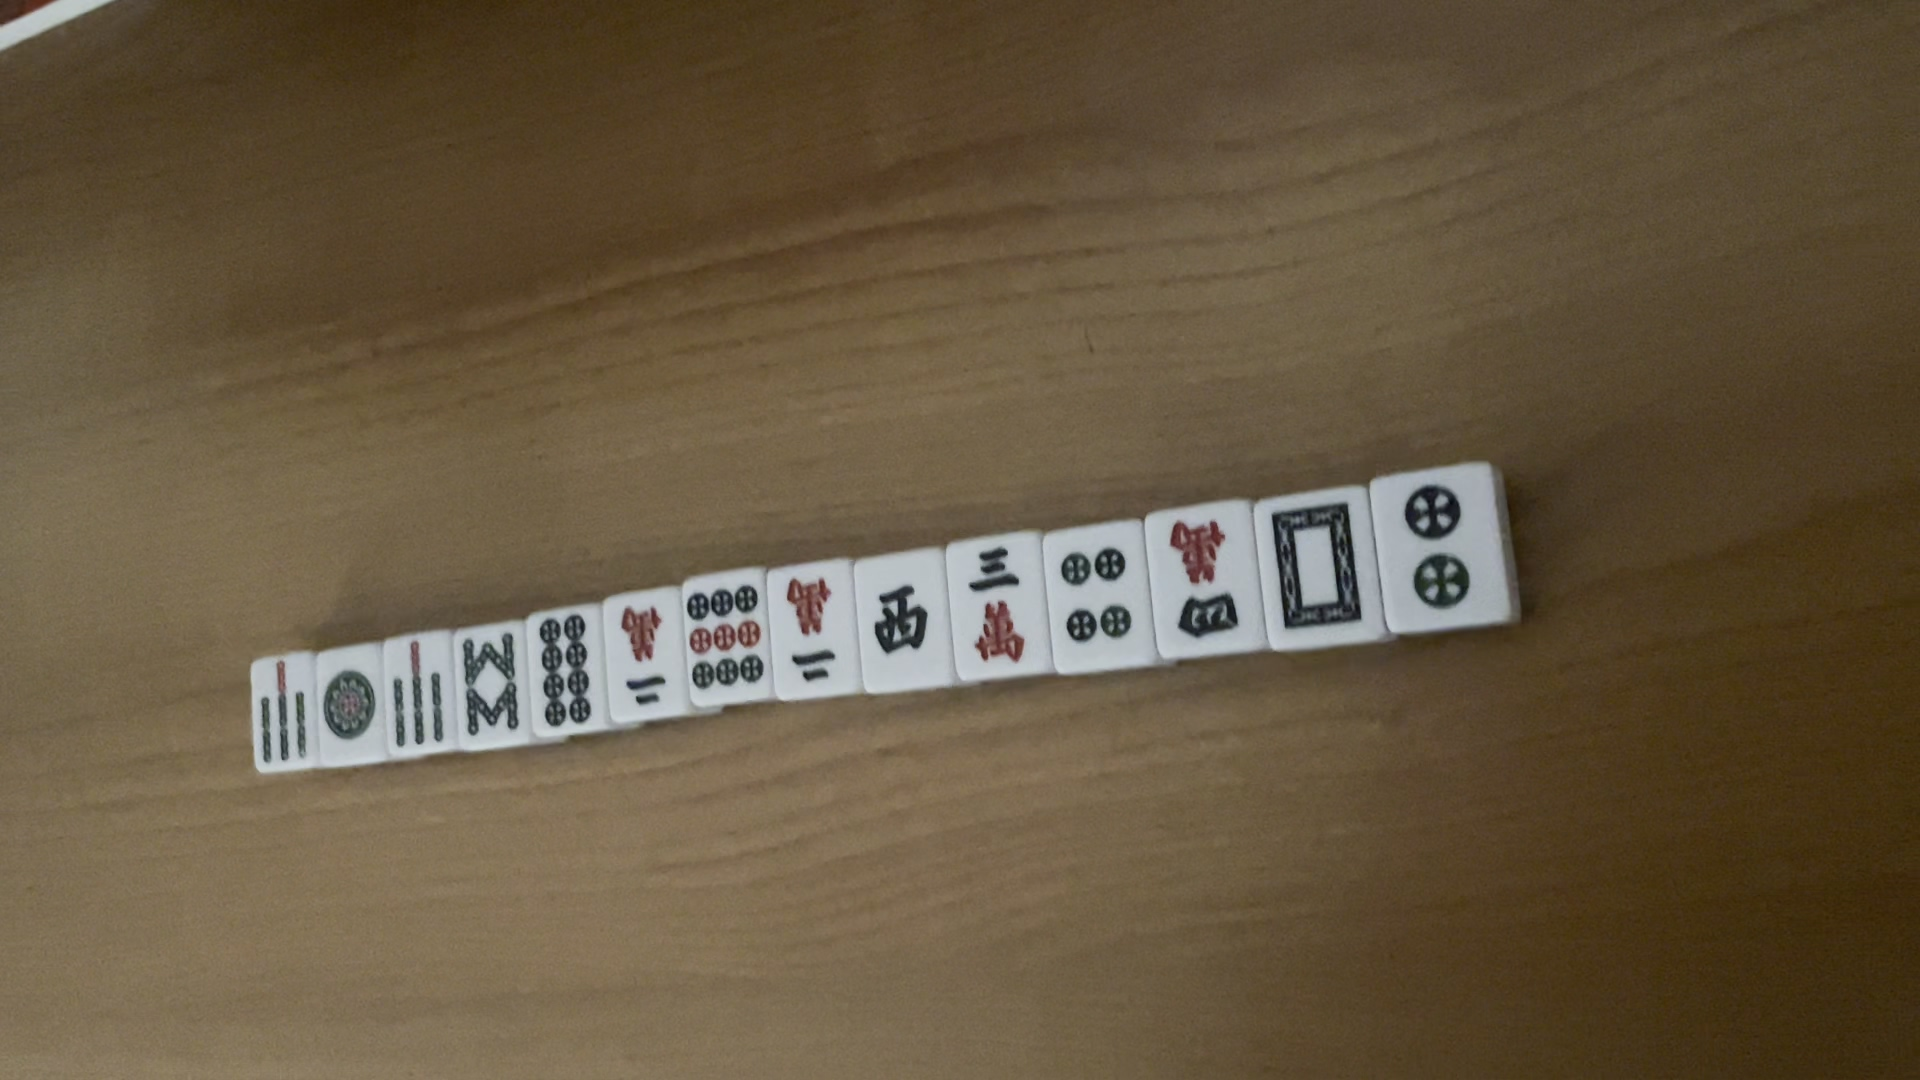b-7: (392, 636, 448, 752), (251, 655, 310, 766)
b-8: (458, 630, 524, 737)
c-2: (773, 568, 847, 692), (616, 601, 674, 720)
c-3: (955, 545, 1040, 673)
c-4: (1162, 509, 1251, 647)
d-1: (316, 665, 386, 746)
d-2: (1399, 483, 1476, 615)
d-4: (1052, 545, 1135, 647)
d-8: (527, 611, 596, 735)
d-9: (680, 578, 767, 696)
hornors-west: (860, 575, 938, 662)
hornors-white: (1269, 501, 1367, 634)
